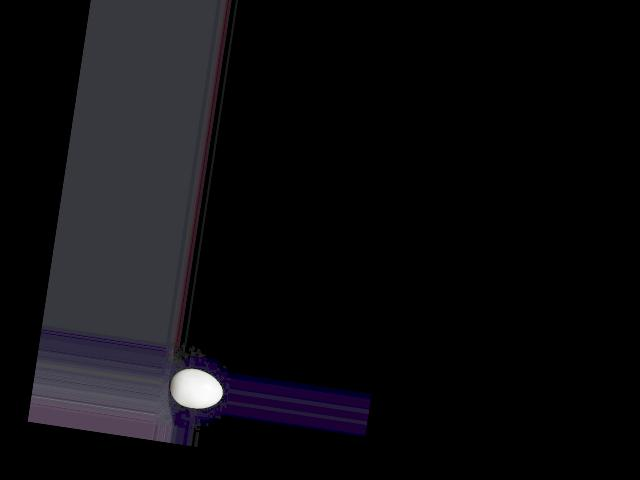egg: (166, 366, 225, 412)
